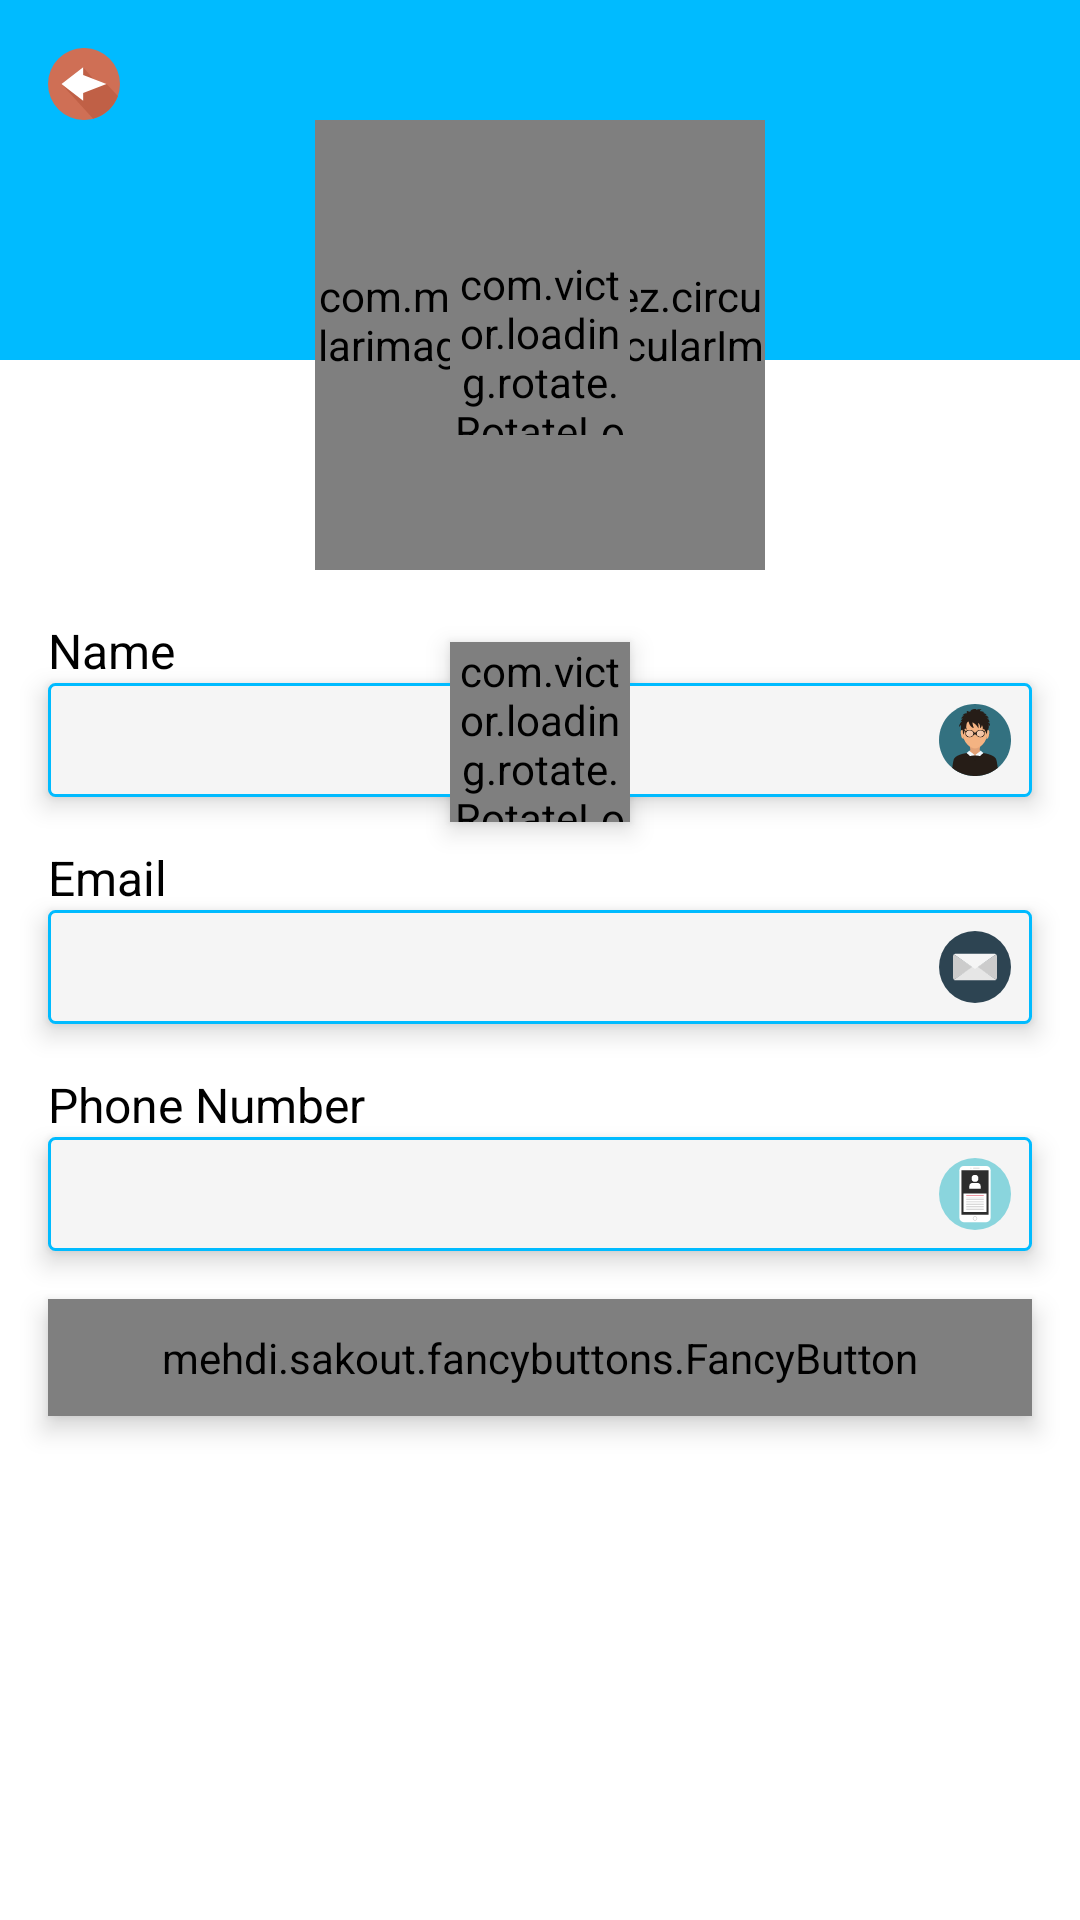

Where to tap for icons on this 1080px×1920px app screen, as (x,y):
back brown: (84,84)
